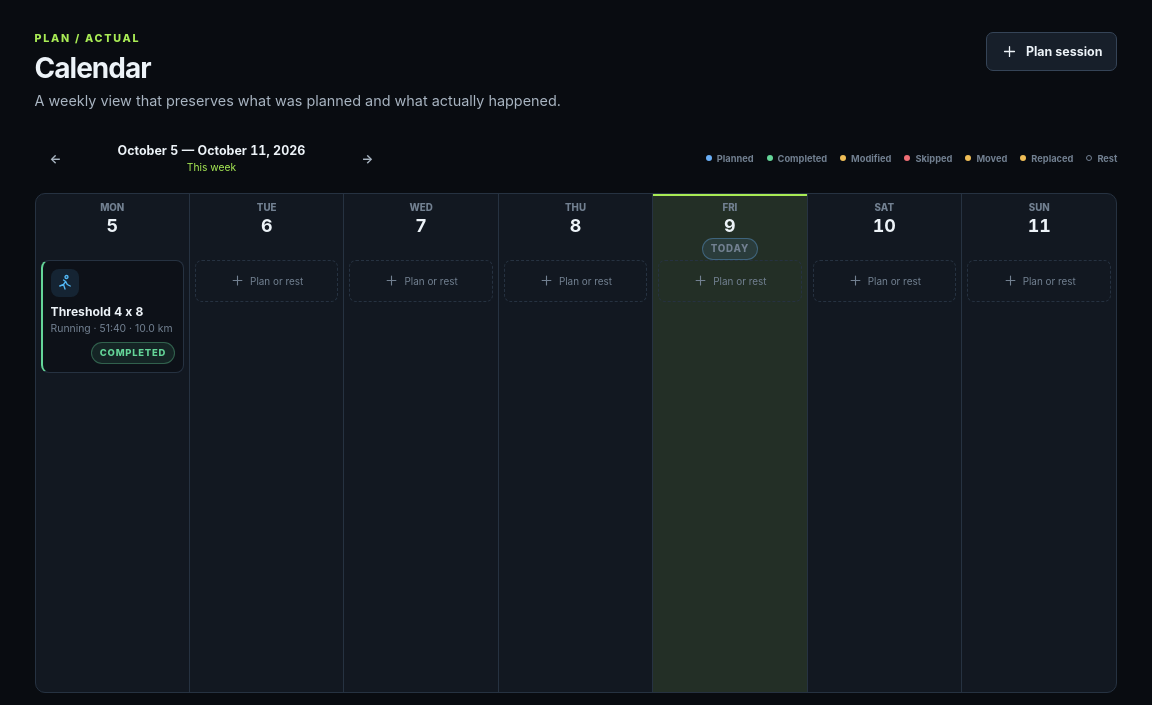
Test: calendar planning › shows planned prescription and linked Strava actual evidence together
Click the text "Threshold 4 x 8".
click(112, 316)  # box [40,260,184,372]
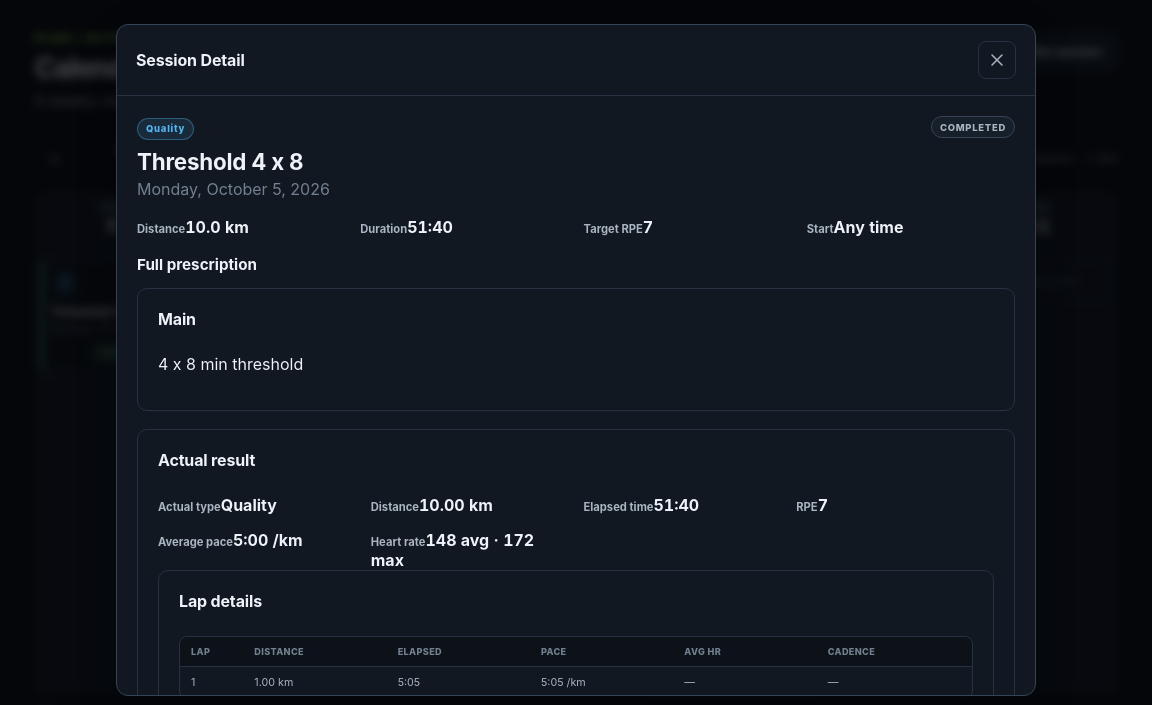
Result: the heading "Full prescription" is shown at [137,254,257,274]
Result: the text "4 x 8 min threshold" is shown at [158,354,303,374]
Result: the heading "Actual result" is shown at [158,450,255,470]
